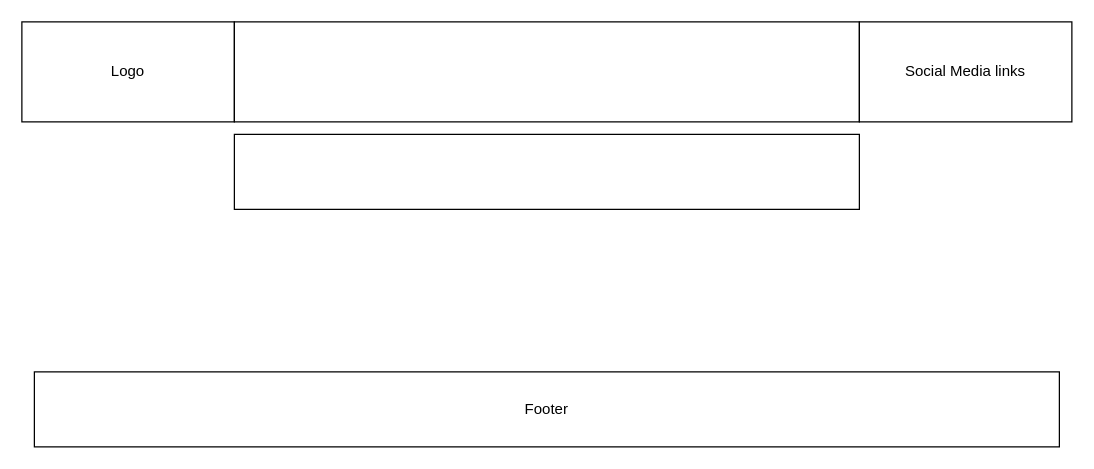
This 1094x469 diagram has some shape labels left out. Each missing label, with the centre of its shape:
"Links to pages" belongs at pixel 546 171.
"Title" belongs at pixel 546 71.
